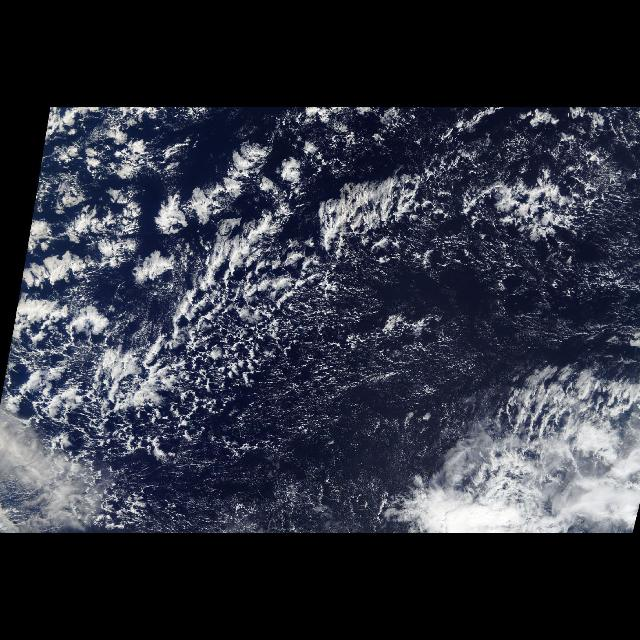Flower: (24, 130, 348, 312)
Gravel: (146, 226, 634, 474)
